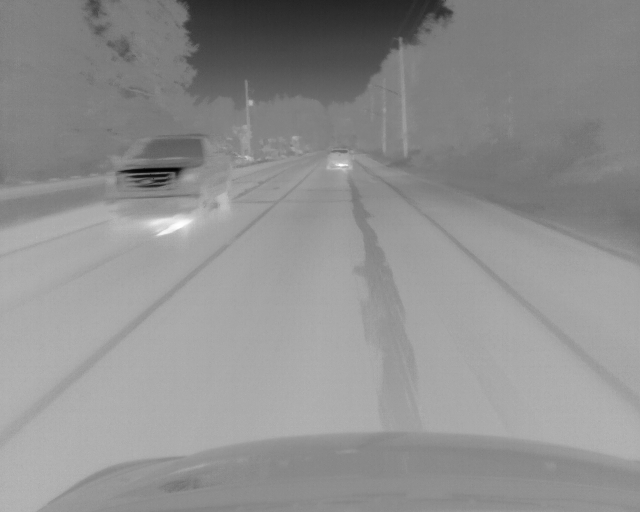car: (103, 135, 236, 223), (326, 148, 353, 170)
